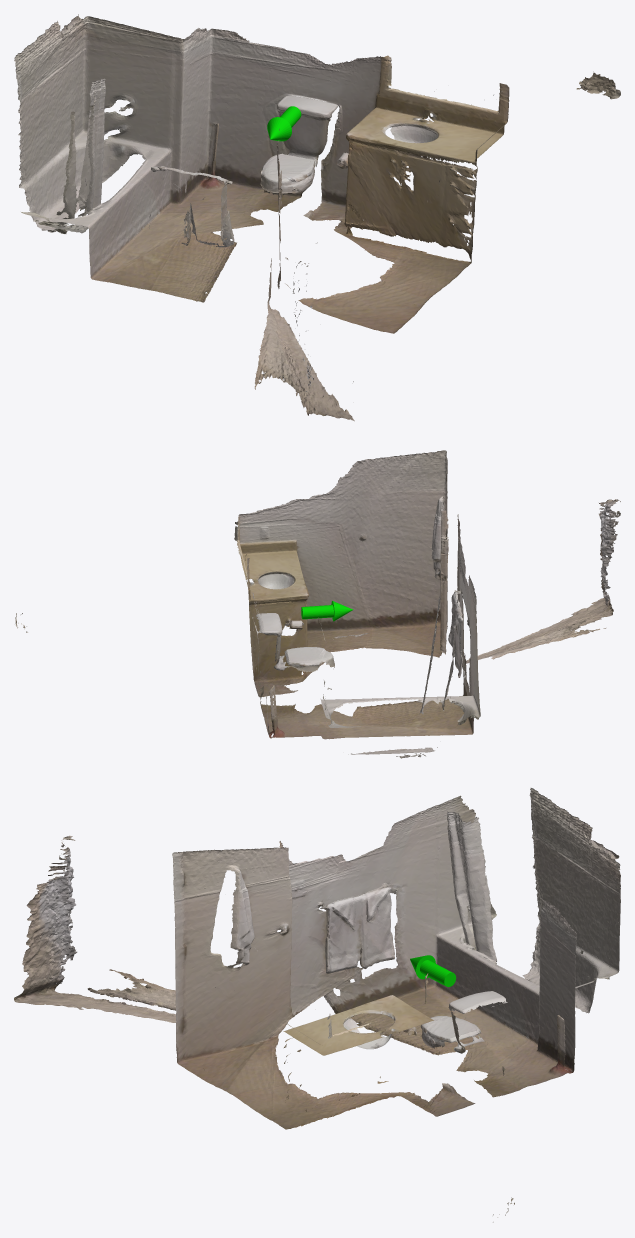
The model's file is situation_7.glb.
3 renders of one model, top to bottom at view 1: azimuth 30°, elevation 25°; view 2: azimuth 150°, elevation 25°; view 3: azimuth 270°, elevation 25°, orthographic. The views are drawn at different scales.
Visible parts, largest first — view 1: world; view 2: world; view 3: world.
Part boxes in pixels (x1=…): world: x1=14, y1=14, x2=620, y2=421; world: x1=15, y1=450, x2=620, y2=758; world: x1=14, y1=788, x2=620, y2=1222.
Bounding box in the file's own units: 5.19 × 1.87 × 4.73.
